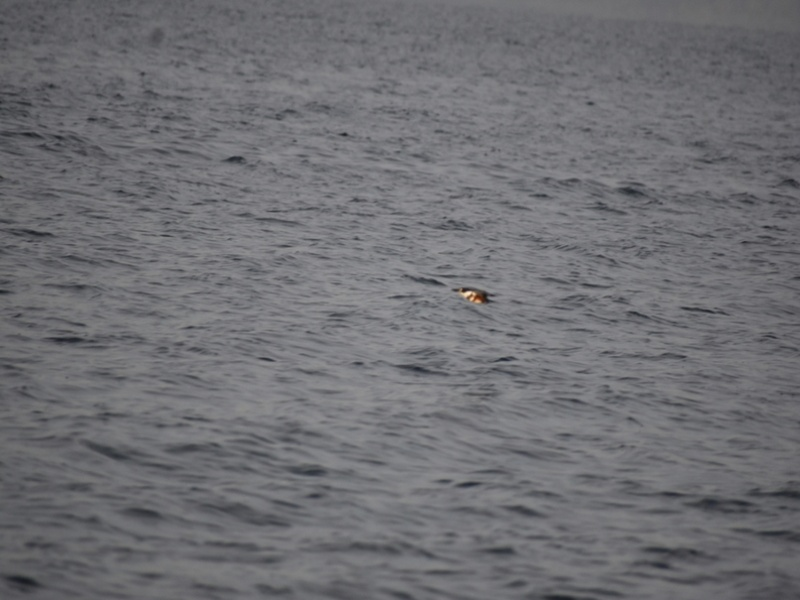kingfisher: (453, 285, 498, 307)
